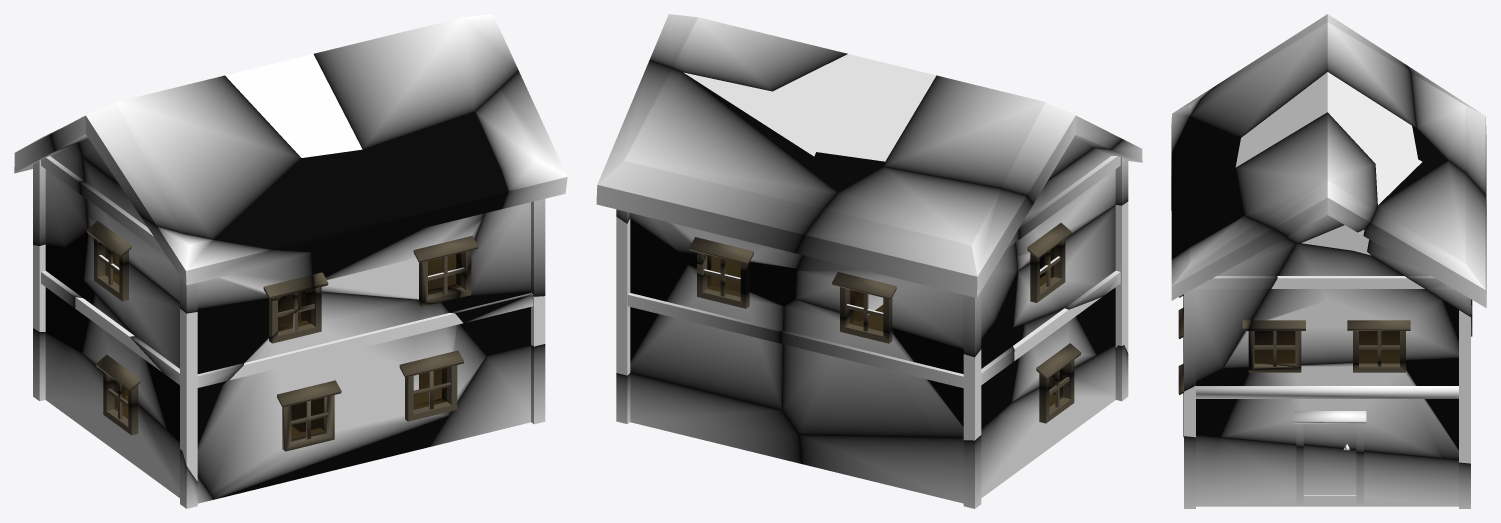
Rendered from Village_Apartment_Small_3_D.fbx.
3 renders of one model, left to right at view 1: azimuth 30°, elevation 25°; view 2: azimuth 150°, elevation 25°; view 3: azimuth 270°, elevation 25°, orthographic. The views are drawn at different scales.
Parts seen in each view (by area): view 1: Village_Apartment_Small_3_fracturepart7_7, Village_Apartment_Small_3_fracturepart14, Village_Apartment_Small_3_fracturepart4, Village_Apartment_Small_3_fracturepart18, Village_Apartment_Small_3_fracturepart10, Village_Apartment_Small_3_fracturepart16_2, Village_Apartment_Small_3_fracturepart11_4, Village_Apartment_Small_3_fracturepart19_2, Village_Apartment_Small_3_fracturepart12, Village_Apartment_Small_3_fracturepart13_4, Village_Apartment_Small_3_fracturepart9_2, Village_Apartment_Small_3_fracturepart8 (+30 smaller); view 2: Village_Apartment_Small_3_fracturepart6, Village_Apartment_Small_3_fracturepart8, Village_Apartment_Small_3_fracturepart17_7, Village_Apartment_Small_3_fracturepart14, Village_Apartment_Small_3_fracturepart19_2, Village_Apartment_Small_3_fracturepart1_5, Village_Apartment_Small_3_fracturepart12, Village_Apartment_Small_3_fracturepart18, Village_Apartment_Small_3_fracturepart13_4, Village_Apartment_Small_3_fracturepart11_4, Village_Apartment_Small_3_fracturepart9_2, Village_Apartment_Small_3_fracturepart16_2 (+27 smaller); view 3: Village_Apartment_Small_3_fracturepart1_5, Village_Apartment_Small_3_fracturepart14, Village_Apartment_Small_3_fracturepart2, Village_Apartment_Small_3_fracturepart18, Village_Apartment_Small_3_fracturepart6, Village_Apartment_Small_3_fracturepart13_4, Village_Apartment_Small_3_fracturepart10, Village_Apartment_Small_3_fracturepart12, Village_Apartment_Small_3_fracturepart8, Village_Apartment_Small_3_fracturepart4, Village_Apartment_Small_3_fracturepart_23, Village_Apartment_Small_3_fracturepart13 (+21 smaller).
Part boxes in pixels (x1,y1,x2,y2): Village_Apartment_Small_3_fracturepart7_7: (197, 291, 486, 499); Village_Apartment_Small_3_fracturepart14: (50, 75, 321, 251); Village_Apartment_Small_3_fracturepart4: (311, 111, 508, 299); Village_Apartment_Small_3_fracturepart18: (313, 14, 518, 152); Village_Apartment_Small_3_fracturepart10: (448, 71, 567, 296); Village_Apartment_Small_3_fracturepart16_2: (83, 157, 312, 308); Village_Apartment_Small_3_fracturepart11_4: (66, 232, 268, 392); Village_Apartment_Small_3_fracturepart19_2: (45, 332, 213, 503); Village_Apartment_Small_3_fracturepart12: (225, 54, 362, 157); Village_Apartment_Small_3_fracturepart13_4: (413, 345, 530, 446); Village_Apartment_Small_3_fracturepart9_2: (82, 281, 221, 441); Village_Apartment_Small_3_fracturepart8: (14, 128, 88, 247); Village_Apartment_Small_3_fracturepart6: (596, 60, 837, 268); Village_Apartment_Small_3_fracturepart8: (795, 166, 1033, 349); Village_Apartment_Small_3_fracturepart17_7: (782, 291, 1013, 437); Village_Apartment_Small_3_fracturepart14: (884, 75, 1122, 203); Village_Apartment_Small_3_fracturepart19_2: (799, 346, 1115, 503); Village_Apartment_Small_3_fracturepart1_5: (630, 256, 783, 410); Village_Apartment_Small_3_fracturepart12: (772, 54, 936, 161); Village_Apartment_Small_3_fracturepart18: (649, 14, 847, 91); Village_Apartment_Small_3_fracturepart13_4: (630, 373, 801, 463); Village_Apartment_Small_3_fracturepart11_4: (995, 205, 1115, 327); Village_Apartment_Small_3_fracturepart9_2: (1011, 288, 1115, 402); Village_Apartment_Small_3_fracturepart16_2: (1015, 137, 1142, 270); Village_Apartment_Small_3_fracturepart1_5: (1196, 331, 1458, 459); Village_Apartment_Small_3_fracturepart14: (1171, 14, 1416, 179); Village_Apartment_Small_3_fracturepart2: (1224, 243, 1458, 368); Village_Apartment_Small_3_fracturepart18: (1231, 112, 1377, 243); Village_Apartment_Small_3_fracturepart6: (1363, 160, 1486, 309); Village_Apartment_Small_3_fracturepart13_4: (1196, 435, 1458, 506); Village_Apartment_Small_3_fracturepart10: (1171, 215, 1296, 382); Village_Apartment_Small_3_fracturepart12: (1235, 72, 1417, 167); Village_Apartment_Small_3_fracturepart8: (1406, 65, 1486, 214); Village_Apartment_Small_3_fracturepart4: (1171, 159, 1244, 259); Village_Apartment_Small_3_fracturepart_23: (1196, 386, 1458, 398); Village_Apartment_Small_3_fracturepart13: (1303, 444, 1356, 495).
Bounding box in the file's own units: 1215 × 997 × 873.
